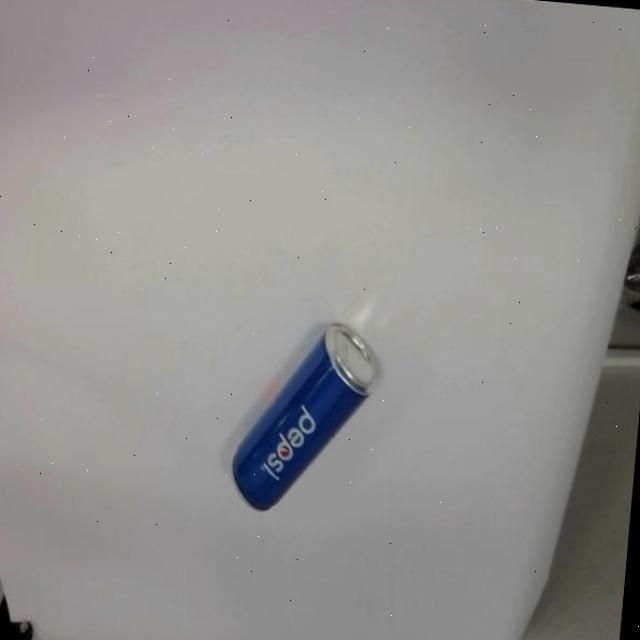debris: (227, 314, 382, 520)
